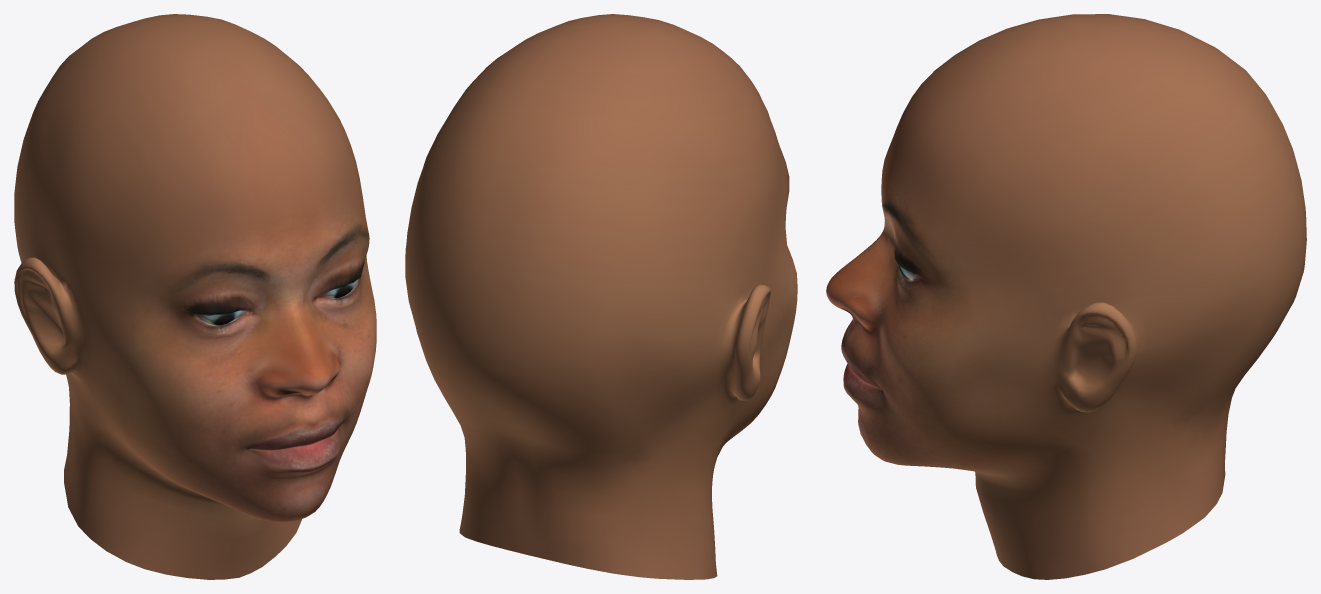
The model's file is v332_obj_ModifierLookDown.obj.
3 renders of one model, left to right at view 1: azimuth 30°, elevation 25°; view 2: azimuth 150°, elevation 25°; view 3: azimuth 270°, elevation 25°, orthographic. The views are drawn at different scales.
Parts seen in each view (by area): view 1: HeadHires; view 2: HeadHires; view 3: HeadHires.
Part boxes in pixels (x1,y1,x2,y2): HeadHires: (14,14,376,579); HeadHires: (405,14,797,579); HeadHires: (826,14,1306,579).
Bounding box in the file's own units: 187 × 282 × 233.
